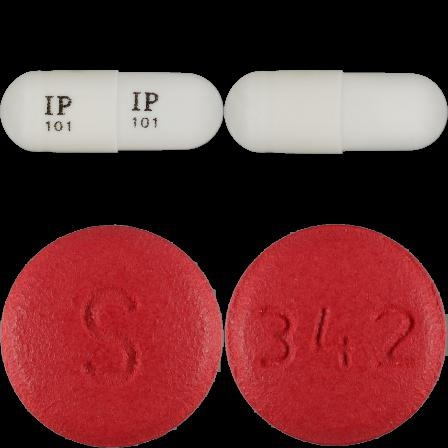68788-9325: (0, 0, 224, 224)
